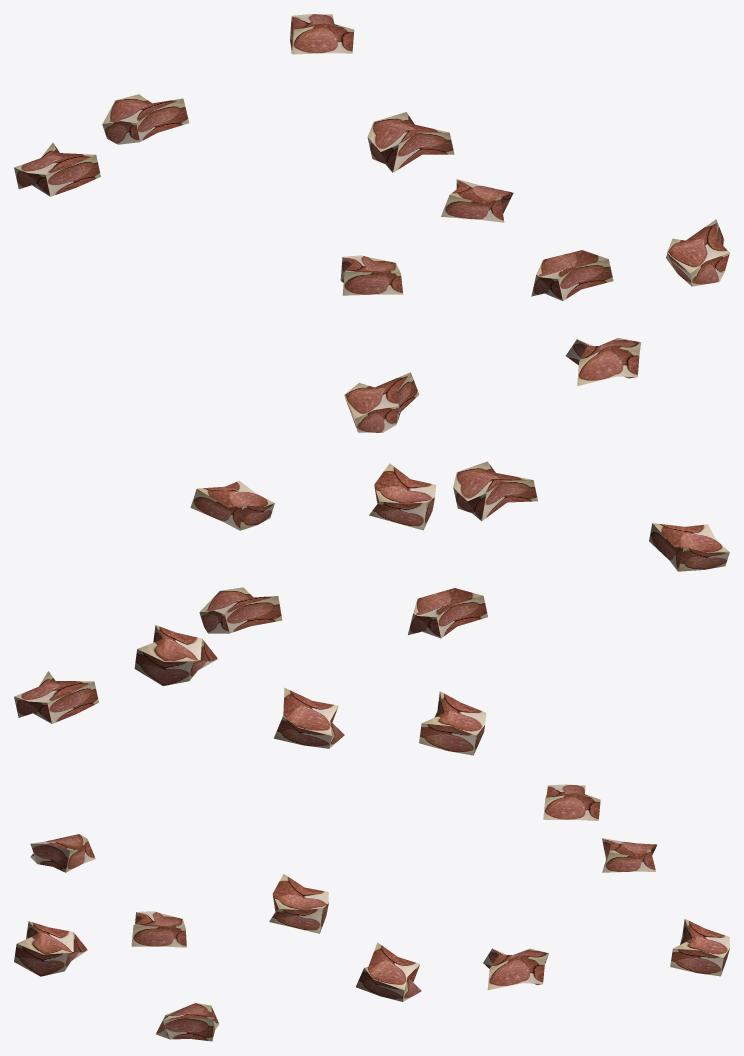
File: Bacon_bits.FBX
The picture shows the model from 3 angles, top to bottom: view 1: azimuth 30°, elevation 25°; view 2: azimuth 150°, elevation 25°; view 3: azimuth 270°, elevation 25°; orthographic projection. The views are drawn at different scales.
Visible parts, largest first — view 1: bacon_Peice011; view 2: bacon_Peice011; view 3: bacon_Peice011.
Boxes of the visible parts, x1,y1,x2,y2 form: bacon_Peice011: (14,14,729,432); bacon_Peice011: (14,461,729,755); bacon_Peice011: (14,784,729,1041).
Size of the model in its own units: 2.85 by 0.4227 by 3.95.
